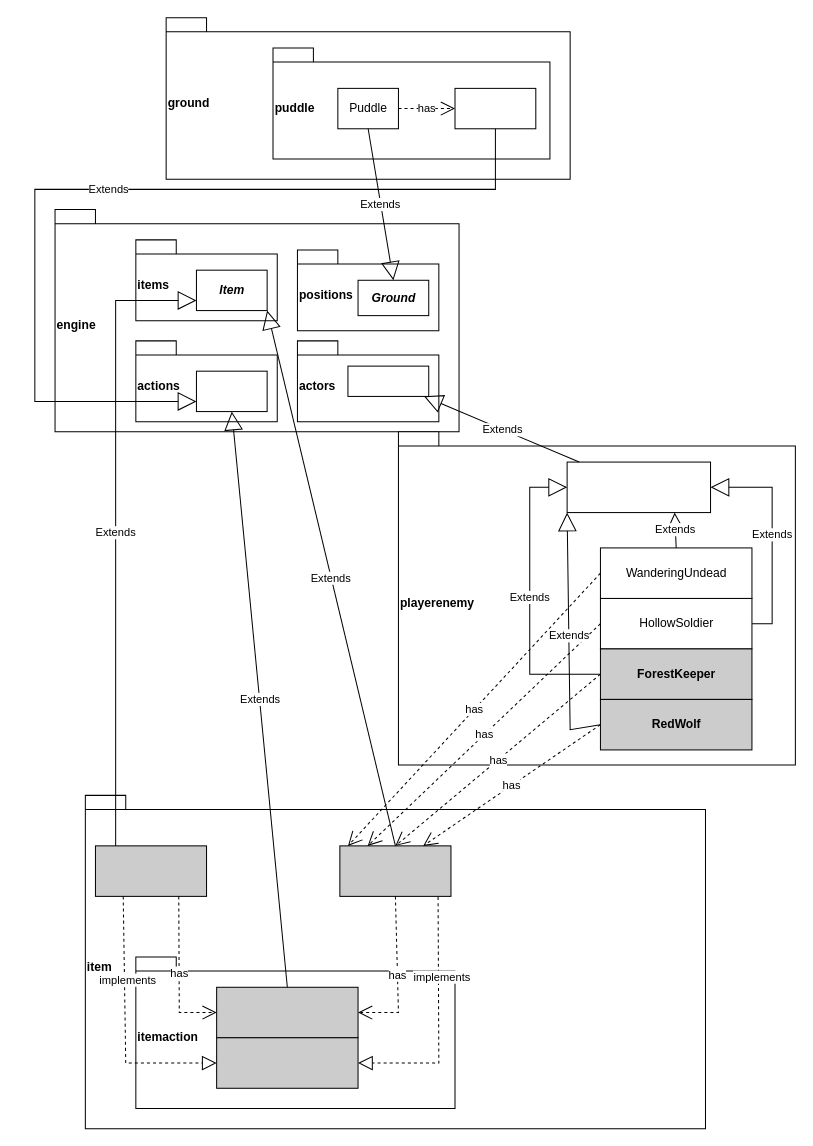
The diagram is 813 pixels wide and 1146 high, and some of its shapes have lost their labels. Here are the shapes that lost their labels. From the top down, the centre of each, then its label:
At (x=495, y=108): "PuddleAction".
At (x=231, y=391): "Action".
At (x=388, y=380): "Actor".
At (x=638, y=487): "EnemyActor".
At (x=150, y=870): "BloodBerry".
At (x=395, y=870): "Runes".
At (x=287, y=1012): "ConsumableAction".
At (x=287, y=1062): "<<interface>> Consumable".
